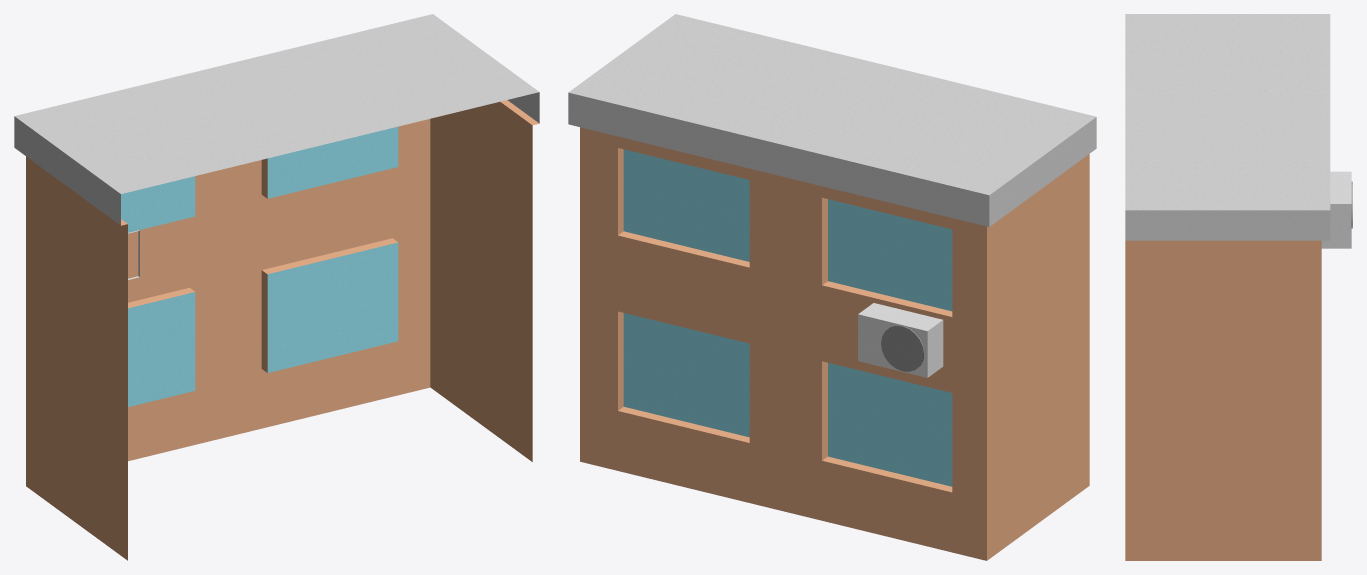
File: building_a.fbx
3 views of the same model, side by side, from view 1: azimuth 30°, elevation 25°; view 2: azimuth 150°, elevation 25°; view 3: azimuth 270°, elevation 25° (orthographic). The views are drawn at different scales.
Parts seen in each view (by area): view 1: building_a; view 2: building_a; view 3: building_a.
Part boxes in pixels (<box>): building_a: <box>14,14,539,560</box>; building_a: <box>568,14,1096,560</box>; building_a: <box>1125,14,1352,560</box>.
Size of the model in its own units: 570 by 480 by 279.
Materials: 1 (1 with a texture image).
